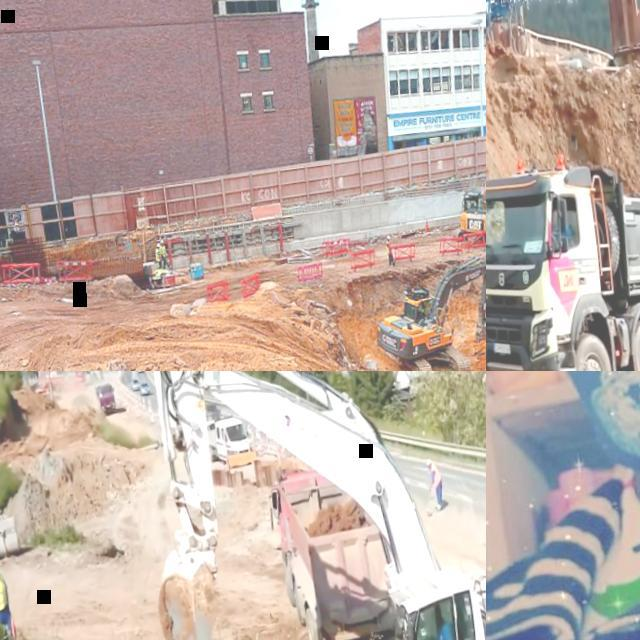helmet: (426, 458, 432, 466), (386, 235, 391, 240), (156, 242, 160, 248), (160, 240, 164, 243)
vest: (0, 566, 10, 610), (431, 462, 442, 488), (155, 248, 163, 262), (385, 241, 392, 256), (161, 246, 167, 255)
